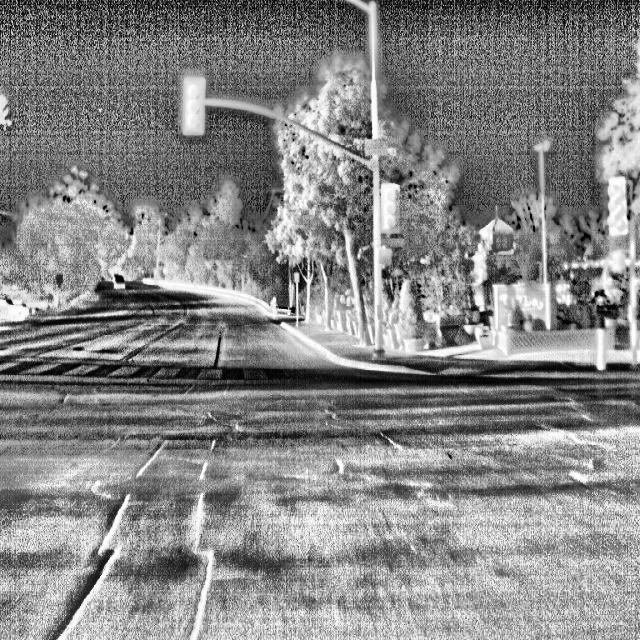trafficlight: (169, 69, 226, 149), (363, 172, 417, 242), (590, 169, 634, 248)
